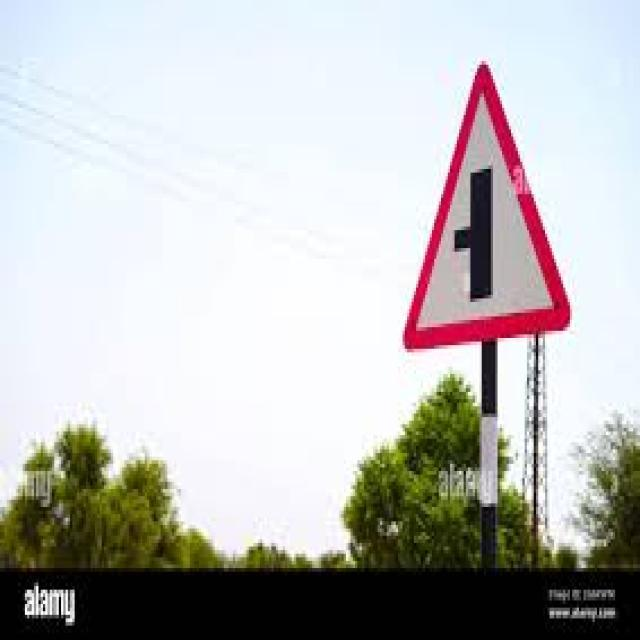side road left: (402, 60, 571, 352)
